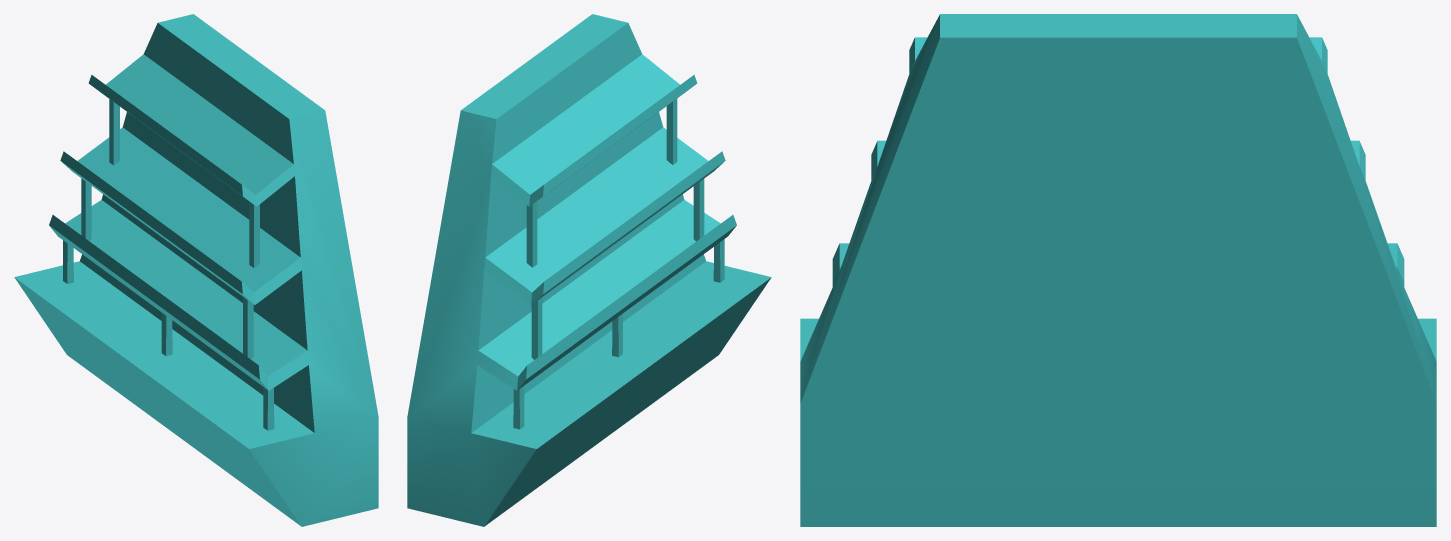
Rendered from PrizeShelf.fbx.
3 renders of one model, left to right at view 1: azimuth 30°, elevation 25°; view 2: azimuth 150°, elevation 25°; view 3: azimuth 270°, elevation 25°, orthographic. The views are drawn at different scales.
Visible parts, largest first — view 1: Prize Shelf; view 2: Prize Shelf; view 3: Prize Shelf.
Part boxes in pixels (box(x1,y1,x2,y2)): Prize Shelf: box(14, 14, 378, 526); Prize Shelf: box(407, 14, 771, 526); Prize Shelf: box(800, 14, 1436, 526).
Size of the model in its own units: 38.96 by 104 by 122.
